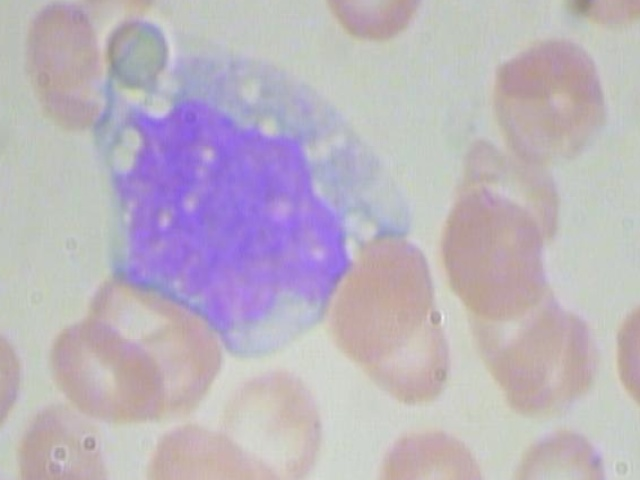RBC: (317, 226, 453, 367), (485, 28, 611, 169), (37, 312, 172, 439), (434, 180, 550, 319), (19, 0, 111, 129), (311, 0, 437, 56), (510, 425, 609, 480)
WBC: (79, 35, 430, 362)
